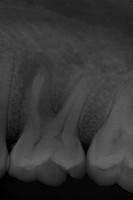Furcation Involvement: (18, 50, 56, 100)
